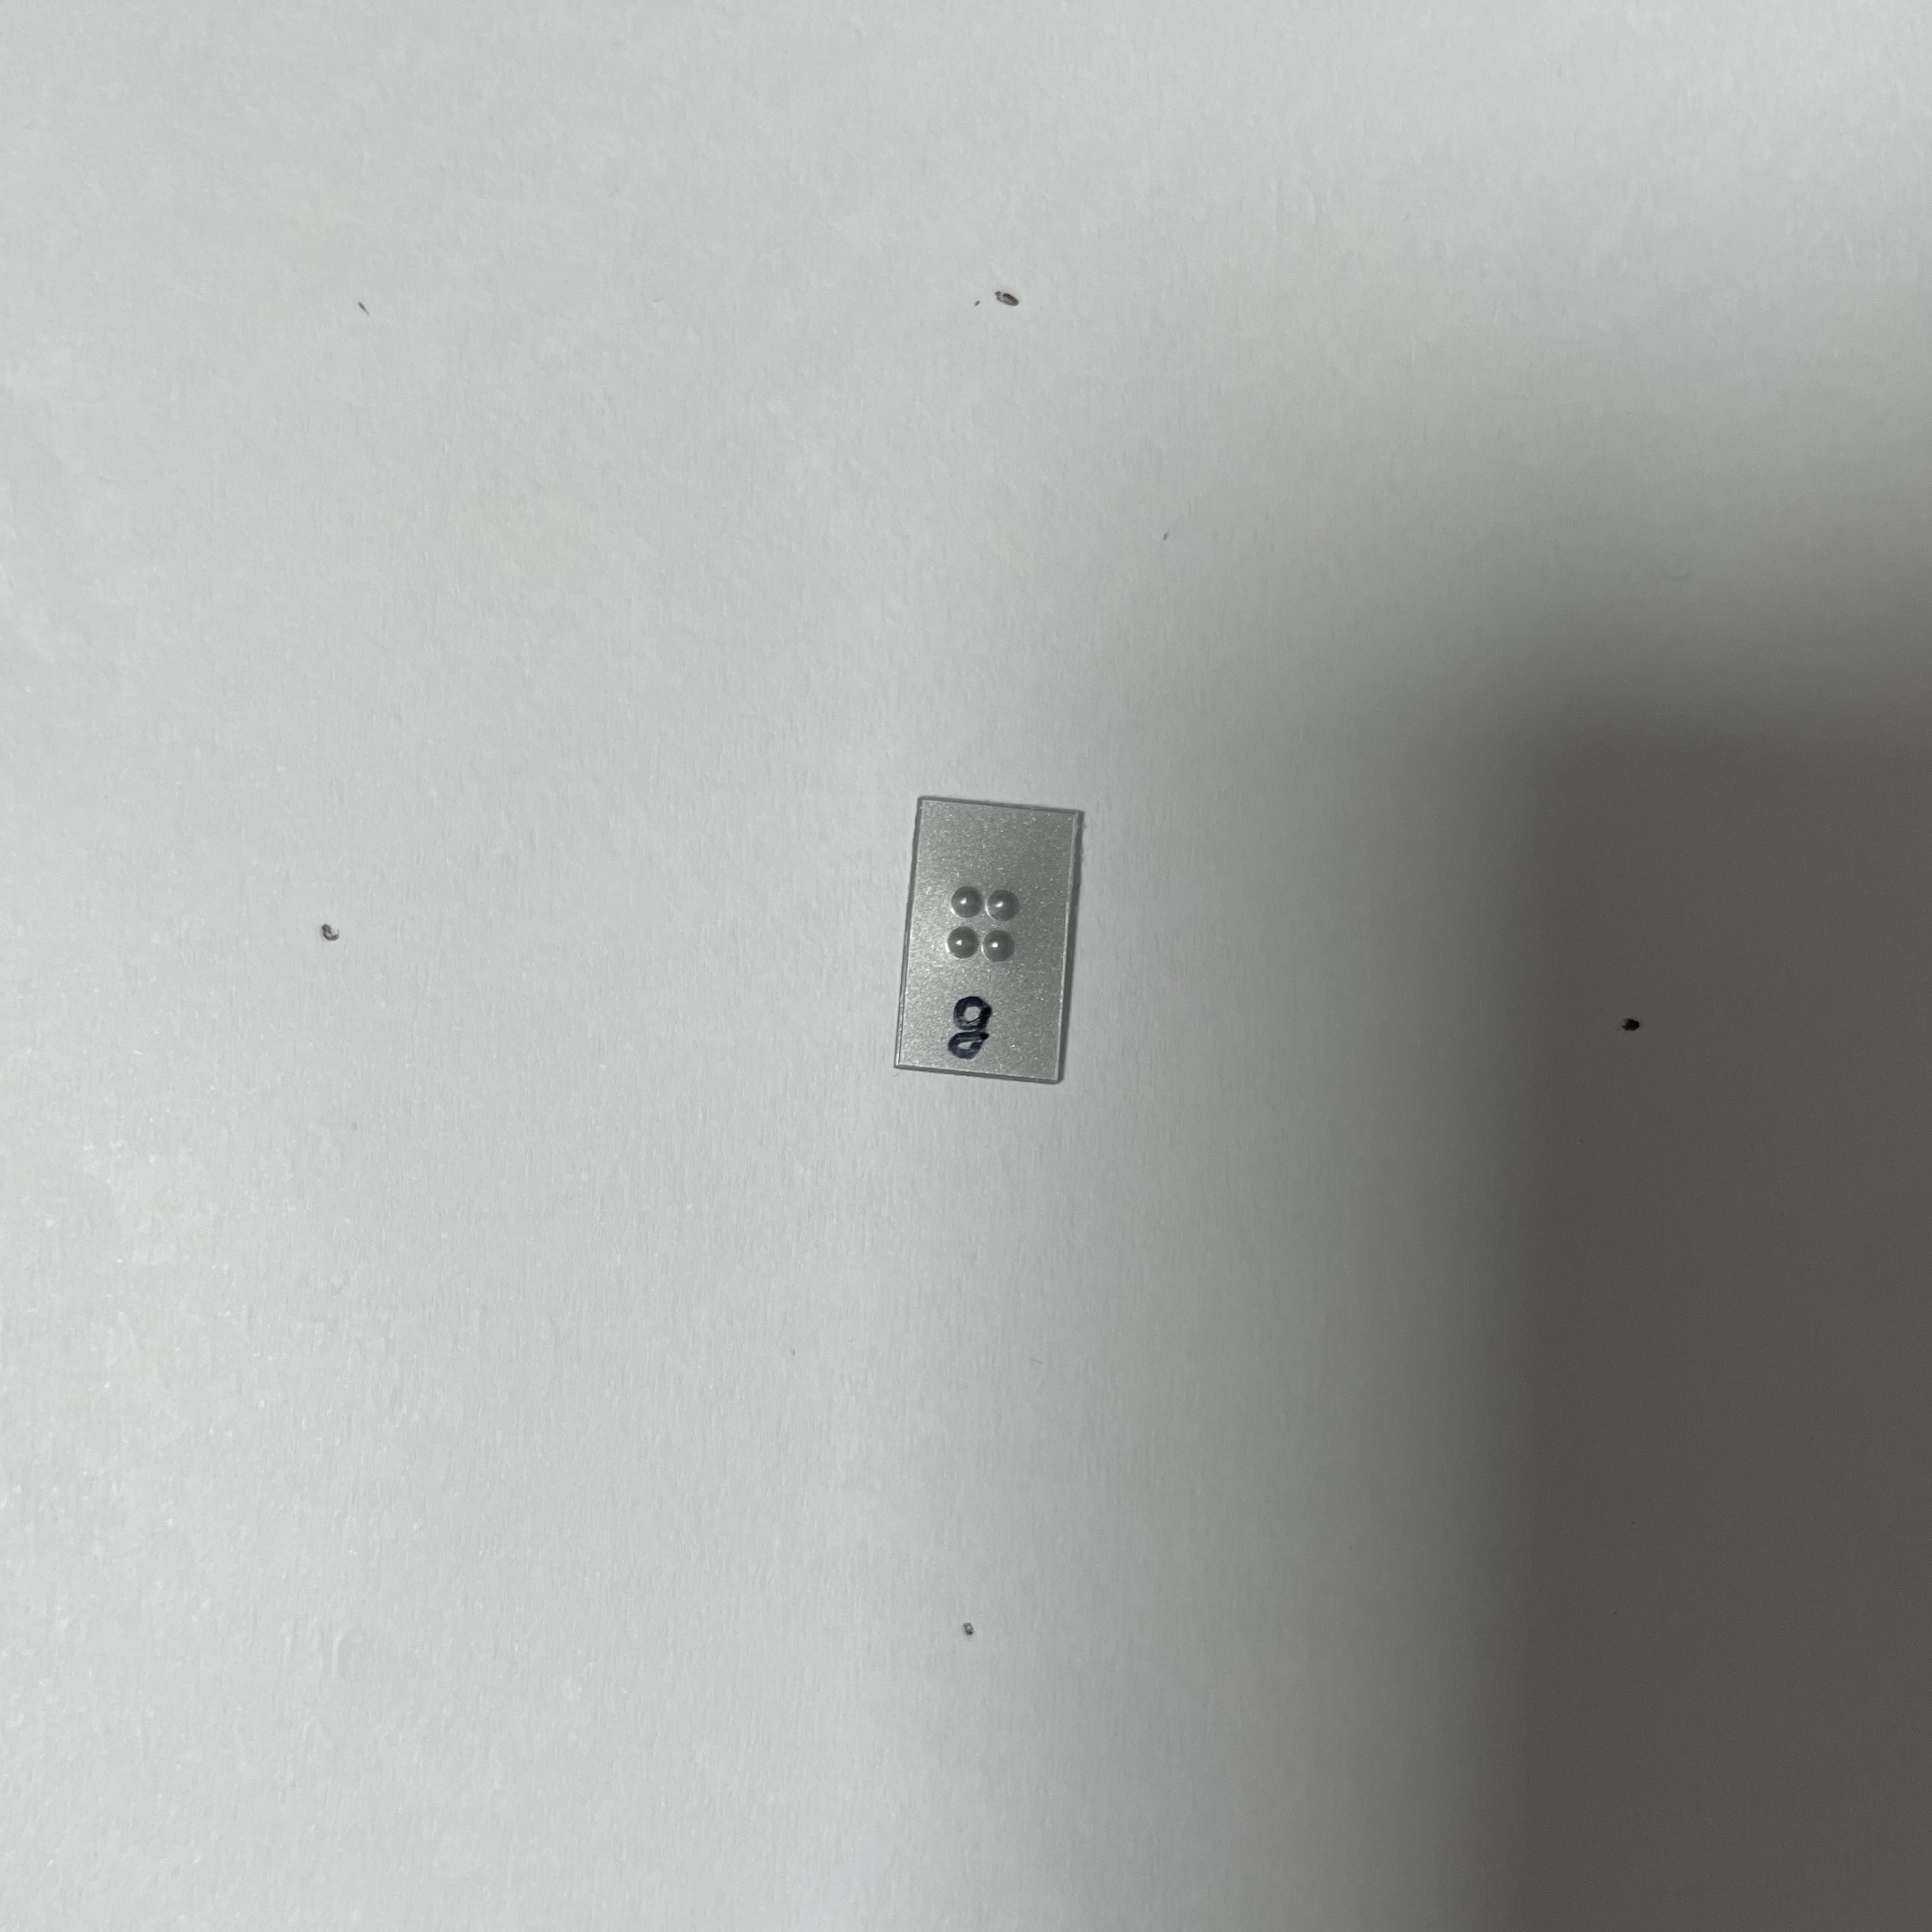g: (930, 869, 1034, 999)
